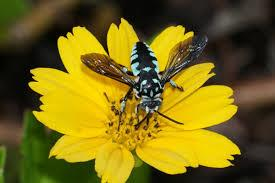Thyreus: (78, 21, 209, 134)
